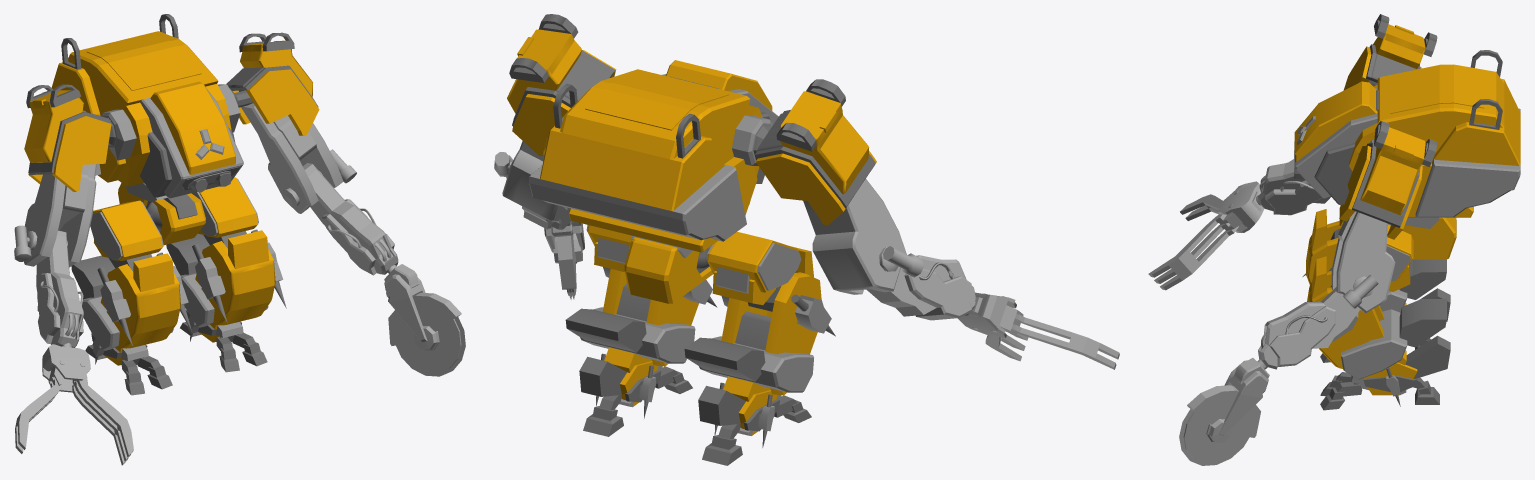
The model's file is FBX_Aurora.fbx.
The picture shows the model from 3 angles, left to right: view 1: azimuth 30°, elevation 25°; view 2: azimuth 150°, elevation 25°; view 3: azimuth 270°, elevation 25°; orthographic projection. The views are drawn at different scales.
Parts seen in each view (by area): view 1: Leg_geo, polySurface17, R_shoulder, Chainsaw, L_shoulder, DowArm, UpArm, R_UpArm_geo, R_DownArm_geo, R_Hasami_L_geo, R_Hasami_C_geo, R_Hasami_R_geo; view 2: polySurface17, Leg_geo, R_shoulder, L_shoulder, R_UpArm_geo, R_DownArm_geo, R_Hasami_R_geo, UpArm, Chainsaw, R_Hasami_C_geo, DowArm, R_Hasami_L_geo; view 3: polySurface17, Leg_geo, L_shoulder, Chainsaw, DowArm, UpArm, R_shoulder, R_Hasami_L_geo, R_DownArm_geo, R_Hasami_C_geo, R_Hasami_R_geo.
Part boxes in pixels (x1,y1,x2,y2): Leg_geo: (71, 177, 286, 395); polySurface17: (42, 14, 243, 245); R_shoulder: (24, 84, 111, 191); Chainsaw: (384, 264, 465, 376); L_shoulder: (226, 32, 319, 135); DowArm: (283, 149, 398, 275); UpArm: (241, 103, 343, 213); R_UpArm_geo: (24, 164, 96, 267); R_DownArm_geo: (14, 225, 83, 347); R_Hasami_L_geo: (72, 362, 133, 465); R_Hasami_C_geo: (42, 343, 90, 392); R_Hasami_R_geo: (15, 360, 64, 453); polySurface17: (529, 60, 778, 303); Leg_geo: (565, 225, 835, 465); R_shoulder: (755, 79, 876, 225); L_shoulder: (507, 14, 616, 155); R_UpArm_geo: (803, 179, 906, 294); R_DownArm_geo: (866, 246, 975, 320); R_Hasami_R_geo: (990, 296, 1119, 369); UpArm: (502, 141, 564, 221); Chainsaw: (544, 221, 584, 299); R_Hasami_C_geo: (958, 292, 1016, 338); DowArm: (494, 152, 570, 230); R_Hasami_L_geo: (972, 293, 1028, 361); polySurface17: (1294, 50, 1520, 259); Leg_geo: (1302, 204, 1450, 410); L_shoulder: (1339, 121, 1437, 239); Chainsaw: (1179, 358, 1269, 465); DowArm: (1258, 274, 1378, 369); UpArm: (1331, 211, 1395, 313); R_shoulder: (1343, 14, 1437, 90); R_Hasami_L_geo: (1148, 204, 1245, 290); R_DownArm_geo: (1258, 159, 1330, 215); R_Hasami_C_geo: (1218, 181, 1263, 232); R_Hasami_R_geo: (1180, 190, 1238, 220).
Bounding box in the file's own units: 330 × 213 × 233.
